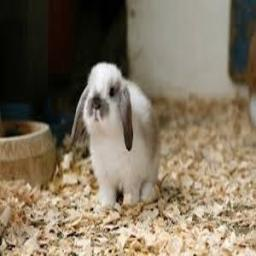rabbit: (71, 61, 160, 207)
